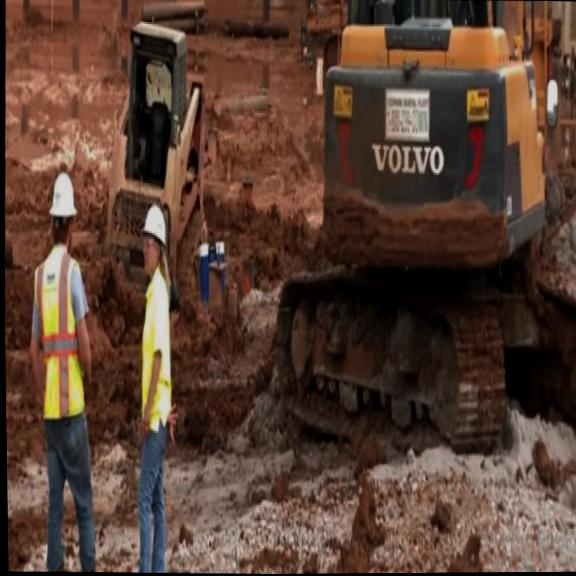safety_vest: (27, 243, 89, 424)
